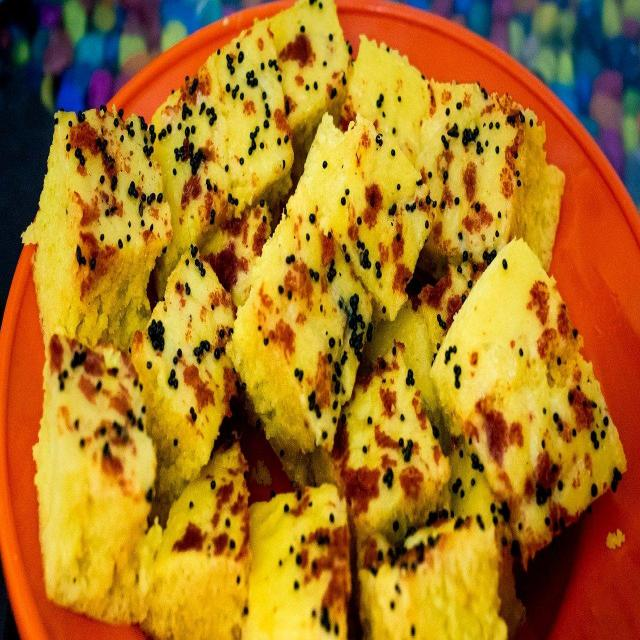dhokla: (40, 17, 619, 640)
